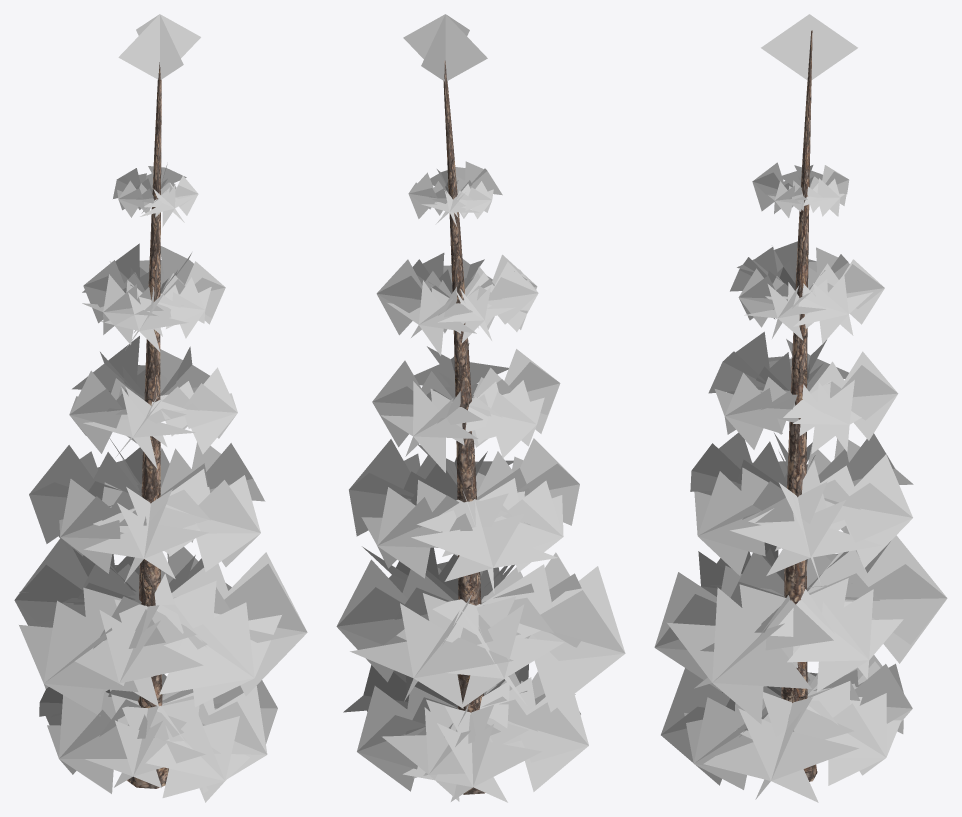
Rendered from woodland_spruce_mid.gltf.
3 views of the same model, side by side, from view 1: azimuth 30°, elevation 25°; view 2: azimuth 150°, elevation 25°; view 3: azimuth 270°, elevation 25° (orthographic). The views are drawn at different scales.
Parts seen in each view (by area): view 1: SpruceDense; view 2: SpruceDense; view 3: SpruceDense.
Part boxes in pixels (x1,y1,x2,y2): SpruceDense: (14,14,307,802); SpruceDense: (336,14,625,802); SpruceDense: (654,14,947,802).
Size of the model in its own units: 1.74 by 5.11 by 1.76.
